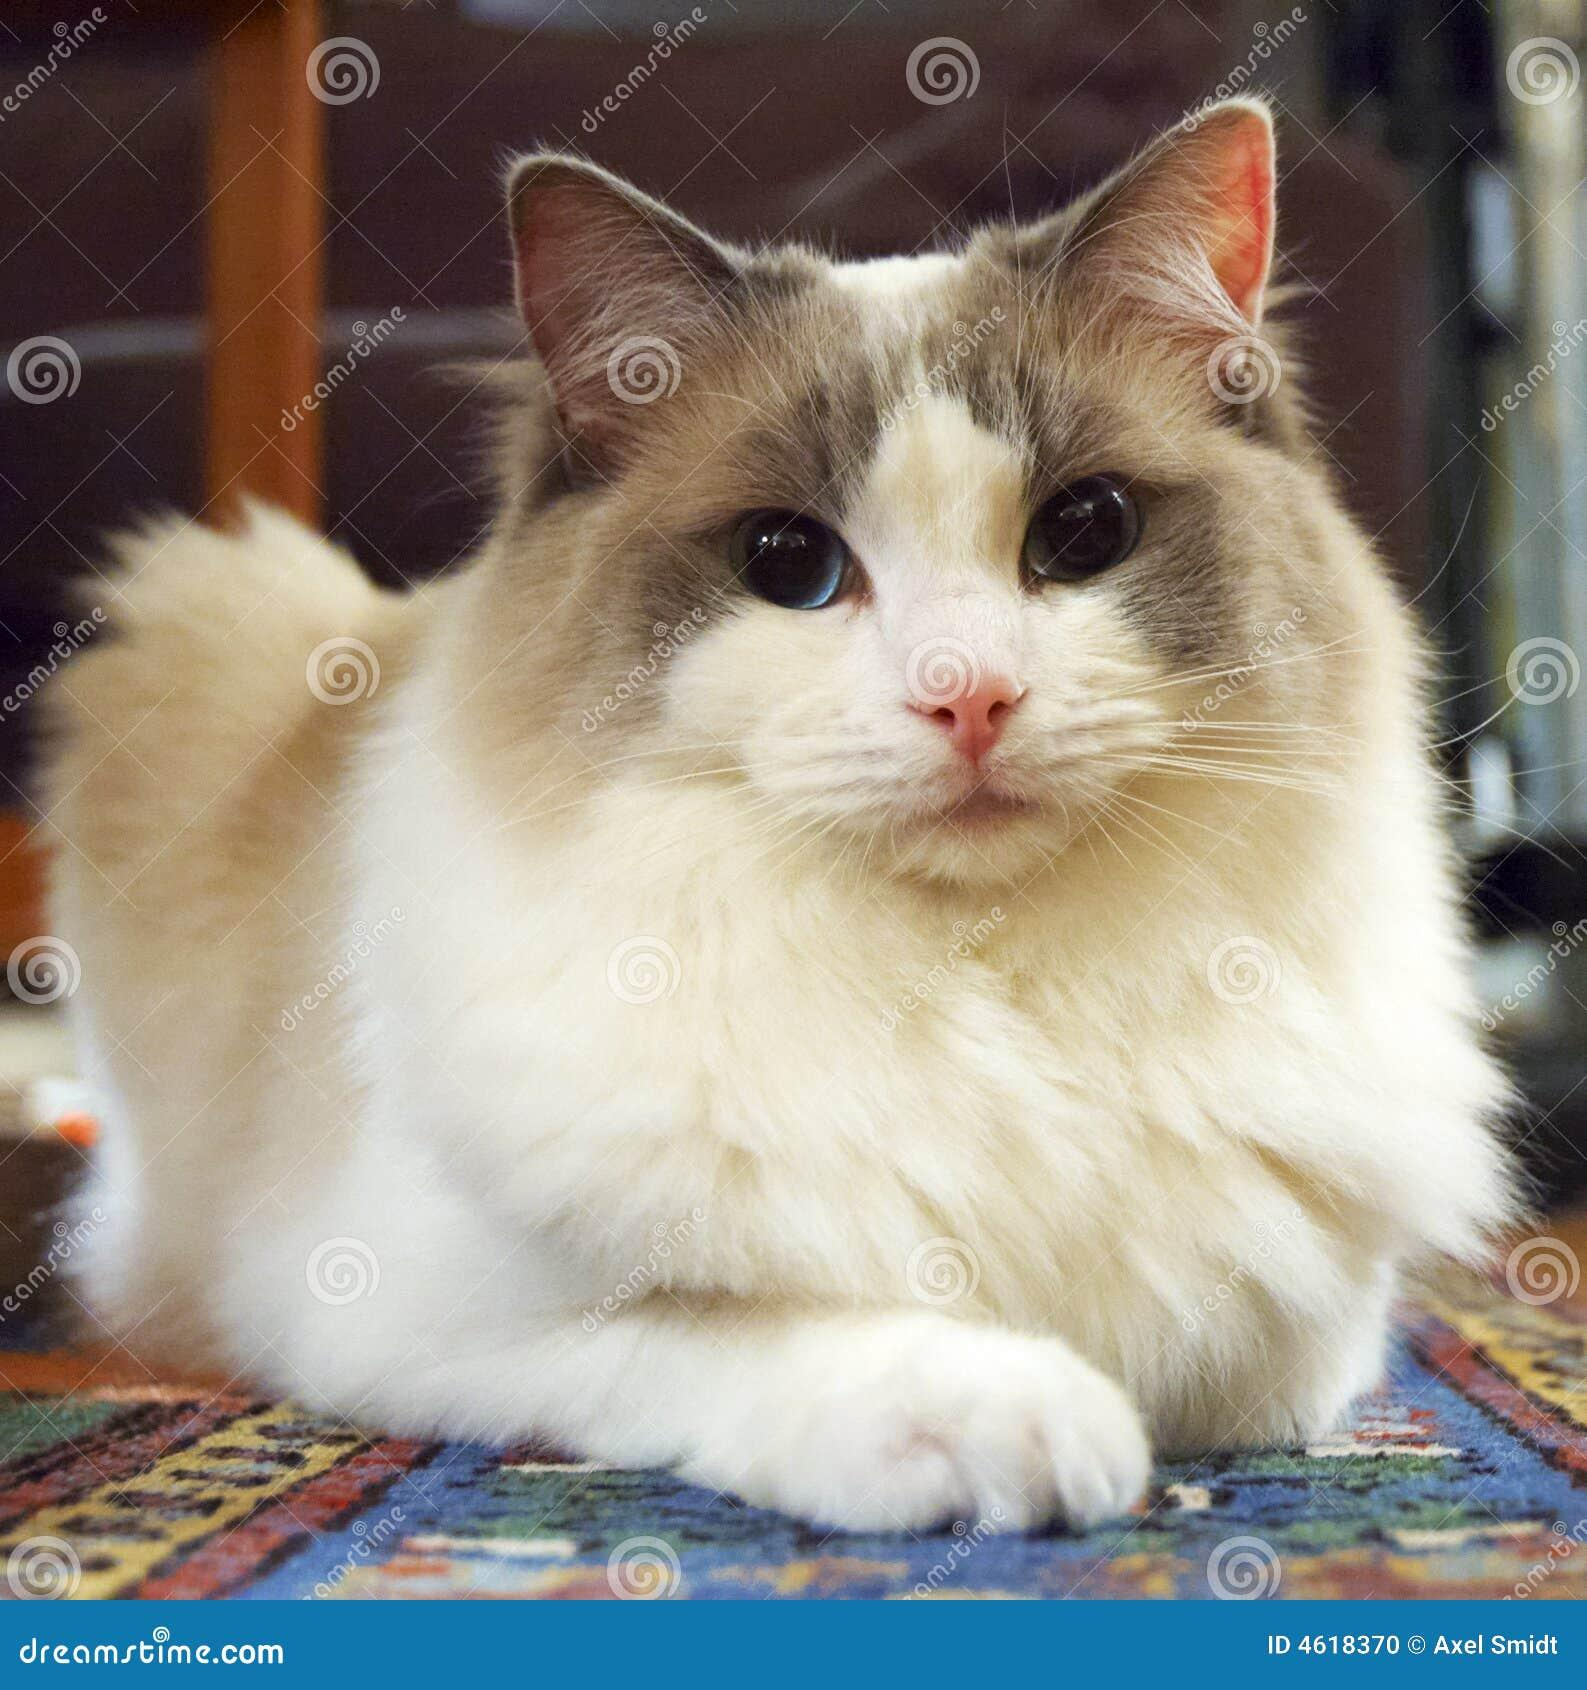ragdoll: (491, 89, 1341, 926)
